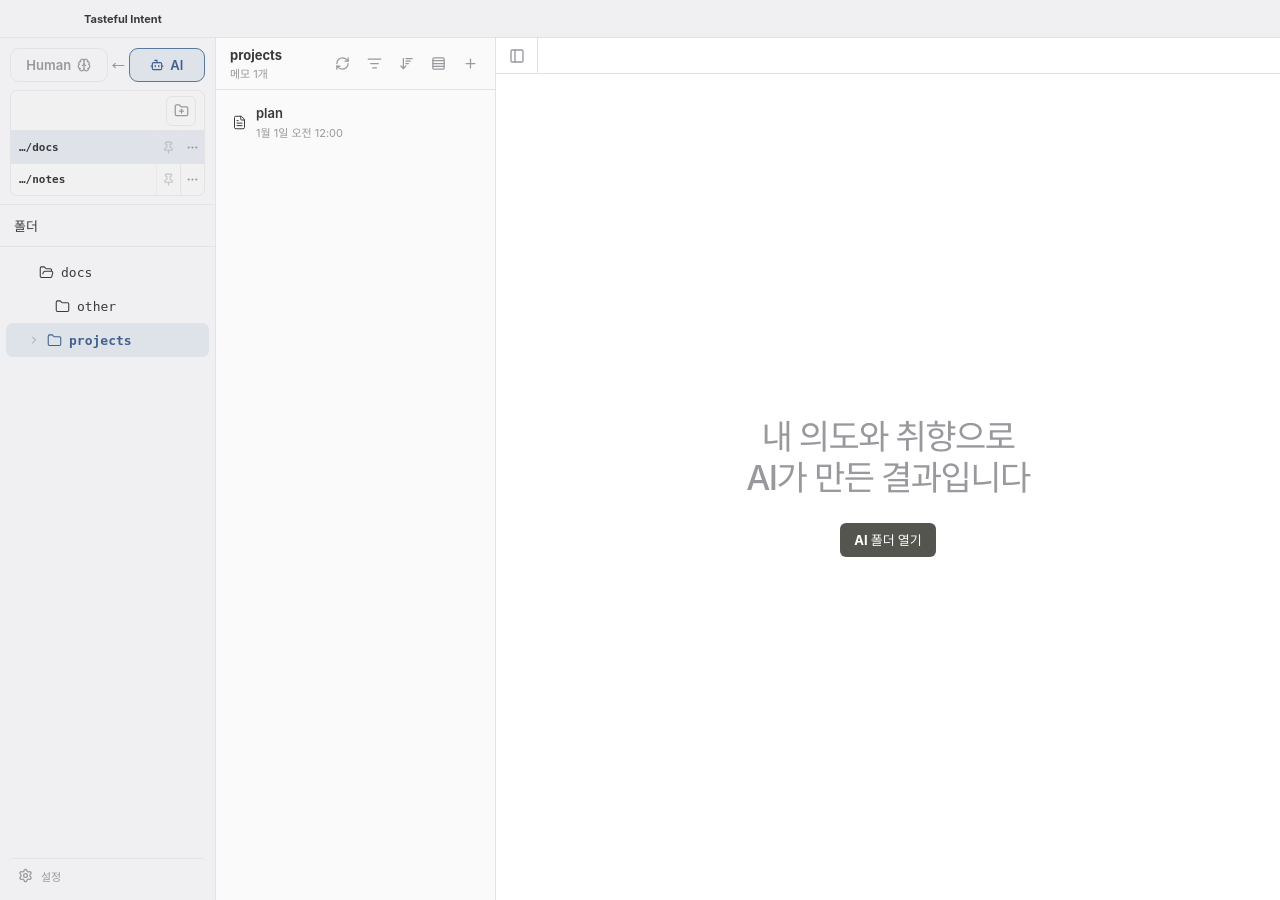
AI git status filter › across AI roots › leaves the shared filter alone in a root without a work tree
Expected: the list named "Markdown 문서" is shown, [222,98,489,147]
Click the button named "현재 전체 문서 · 클릭하면 마지막 commit 이후 수정·새 문서".
click(374, 64)  # box [359,48,389,78]
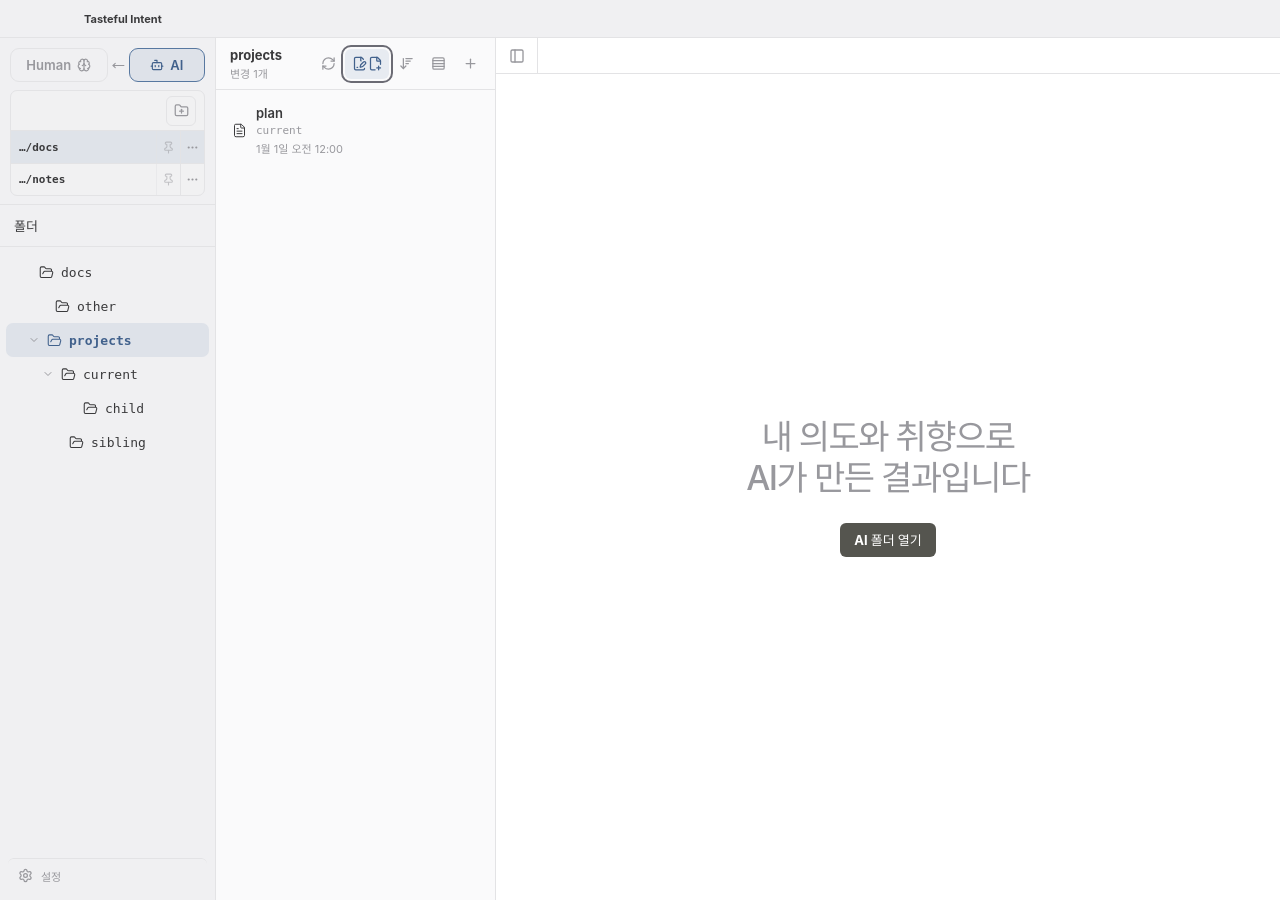
Expected: the button named "현재 수정·새 문서 · 클릭하면 수정된 문서만" is shown, [345,48,389,78]
Click the button "…/notes".
click(84, 180)  # box [11,164,156,195]
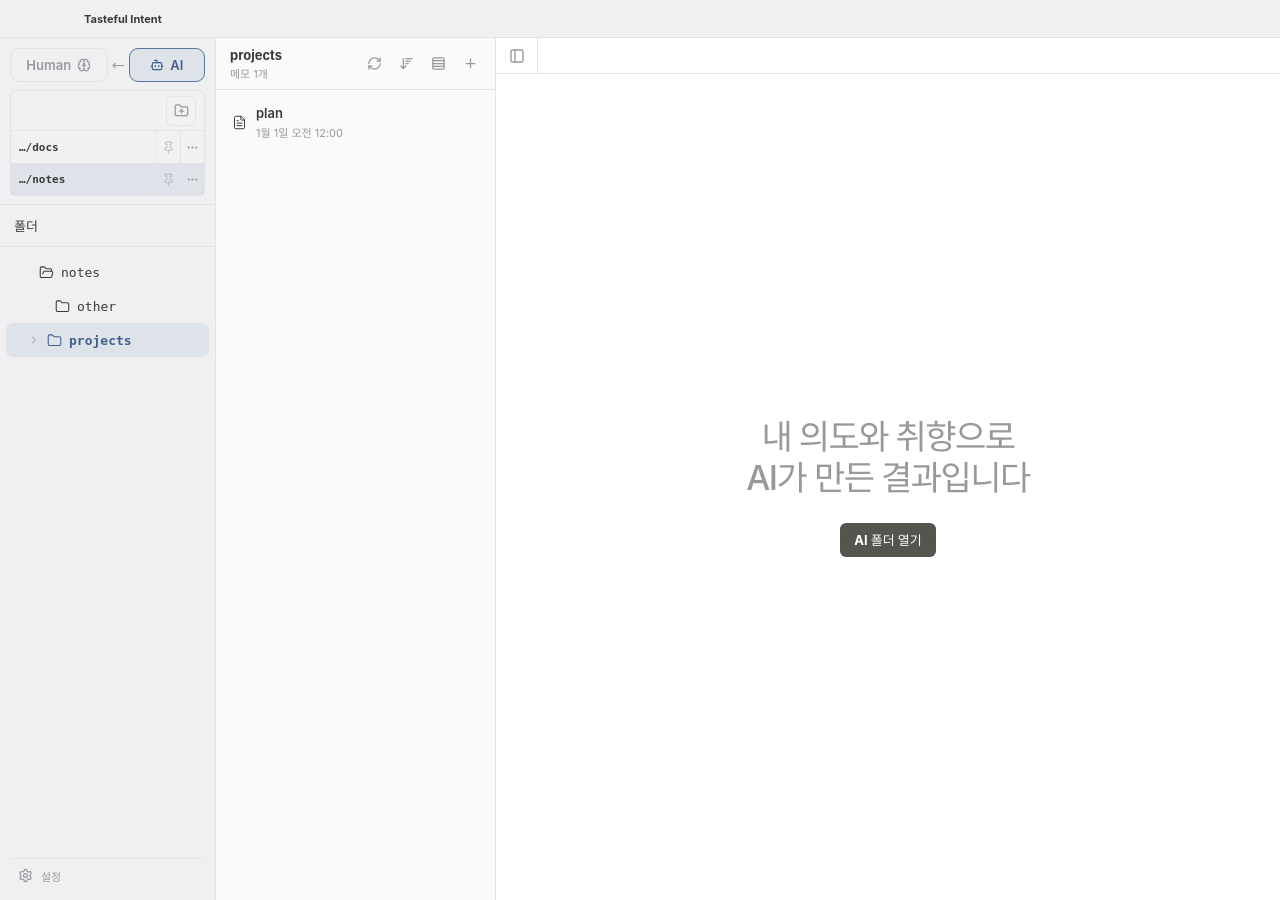
Click the button with aria-label "AI 폴더 docs 열기: /docs".
click(84, 147)  # box [11,131,156,163]
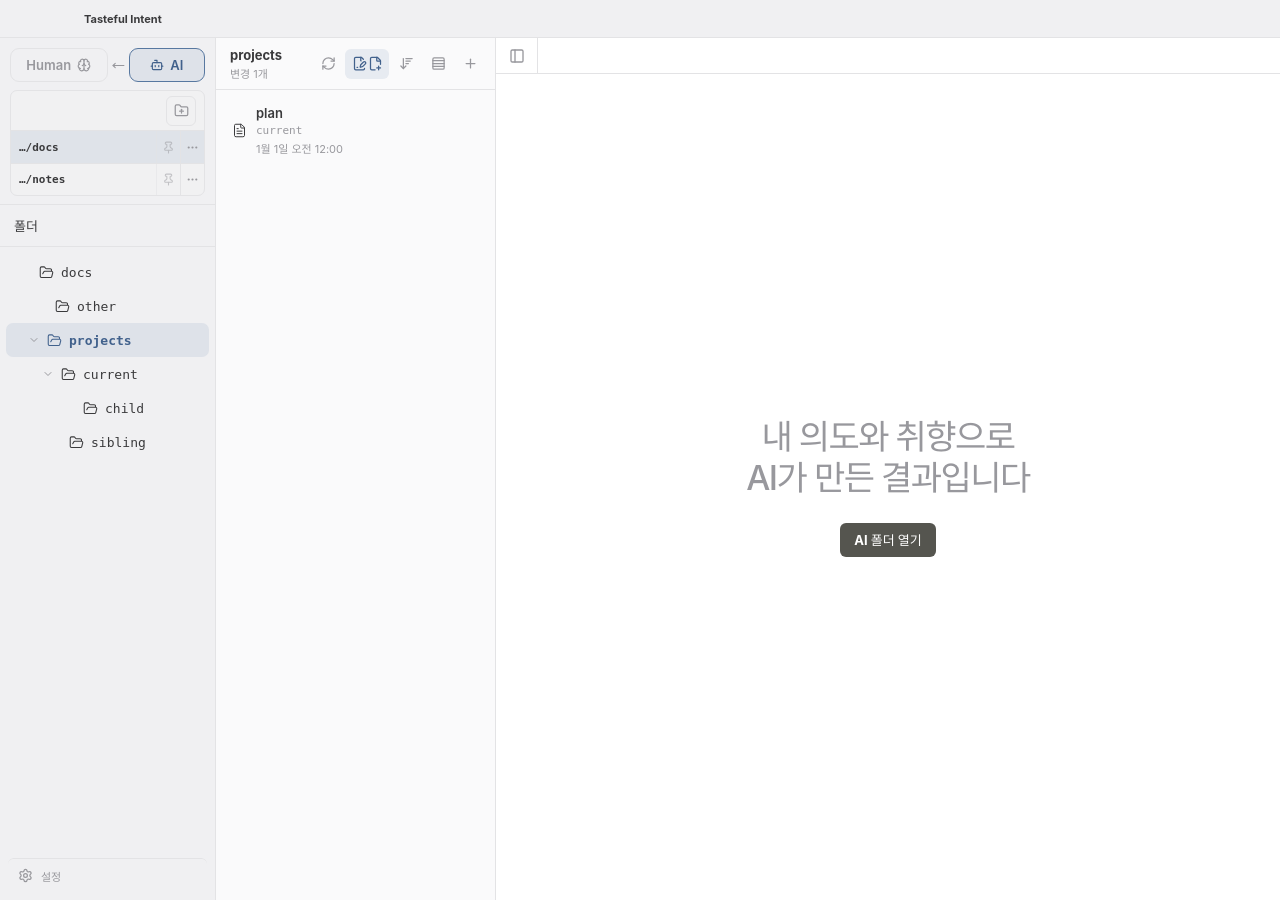
Expected: the button named "현재 수정·새 문서 · 클릭하면 수정된 문서만" is shown, [345,48,389,78]
